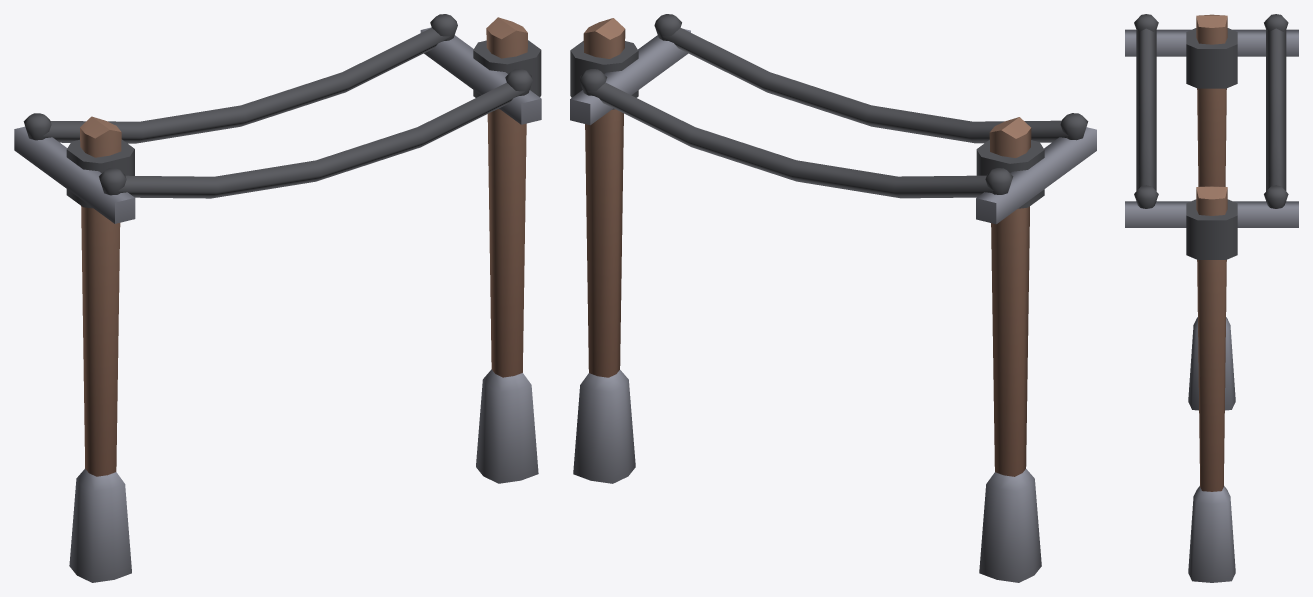
File: electricity_pole.glb
3 renders of one model, left to right at view 1: azimuth 30°, elevation 25°; view 2: azimuth 150°, elevation 25°; view 3: azimuth 270°, elevation 25°, orthographic. The views are drawn at different scales.
Parts seen in each view (by area): view 1: electricity-pole; view 2: electricity-pole; view 3: electricity-pole.
Part boxes in pixels (<box>): electricity-pole: <box>14,14,541,582</box>; electricity-pole: <box>570,14,1096,582</box>; electricity-pole: <box>1125,14,1298,582</box>.
Size of the model in its own units: 4.63 by 4.2 by 1.71.
Materials: 1 (1 with a texture image).
